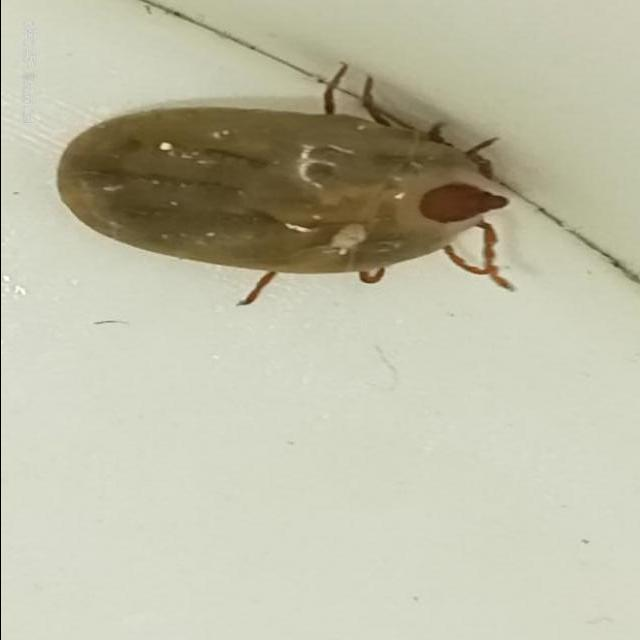Rhipicephalus Sanguineus-F-Fed: (51, 68, 514, 297)
